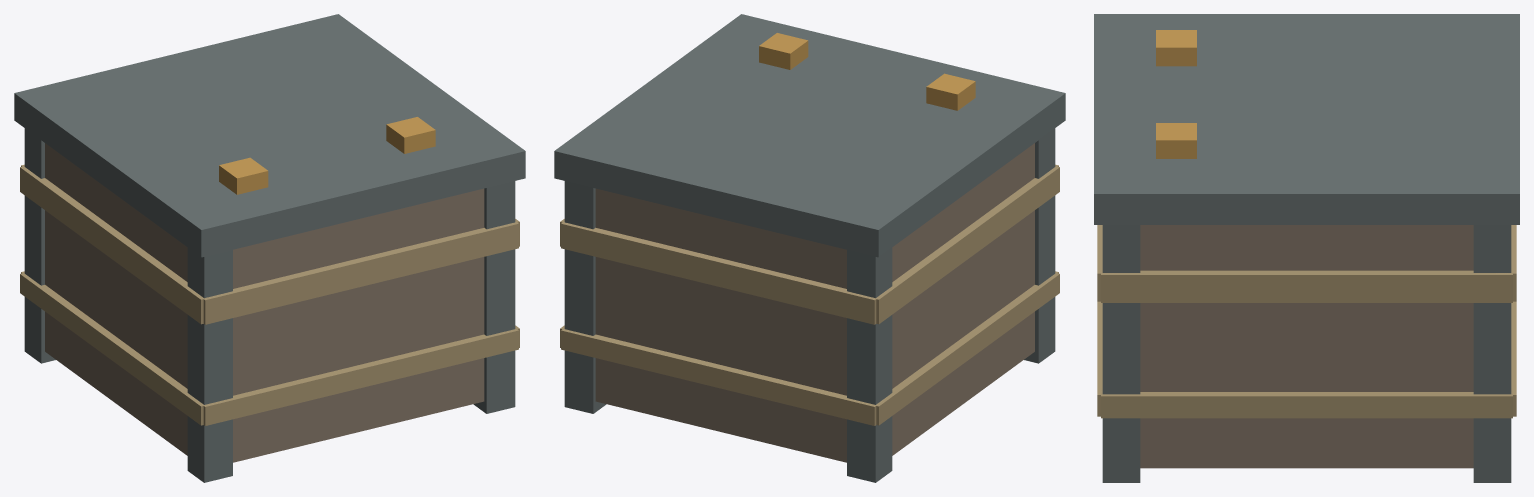
The model's file is supply_crate.glb.
The picture shows the model from 3 angles, left to right: view 1: azimuth 30°, elevation 25°; view 2: azimuth 150°, elevation 25°; view 3: azimuth 270°, elevation 25°; orthographic projection. The views are drawn at different scales.
Visible parts, largest first — view 1: SupplyCrate; view 2: SupplyCrate; view 3: SupplyCrate.
Part boxes in pixels (x1,y1,x2,y2): SupplyCrate: [14, 14, 525, 482]; SupplyCrate: [554, 14, 1065, 482]; SupplyCrate: [1094, 14, 1519, 482].
Bounding box in the file's own units: 1.24 × 1 × 1.24.
